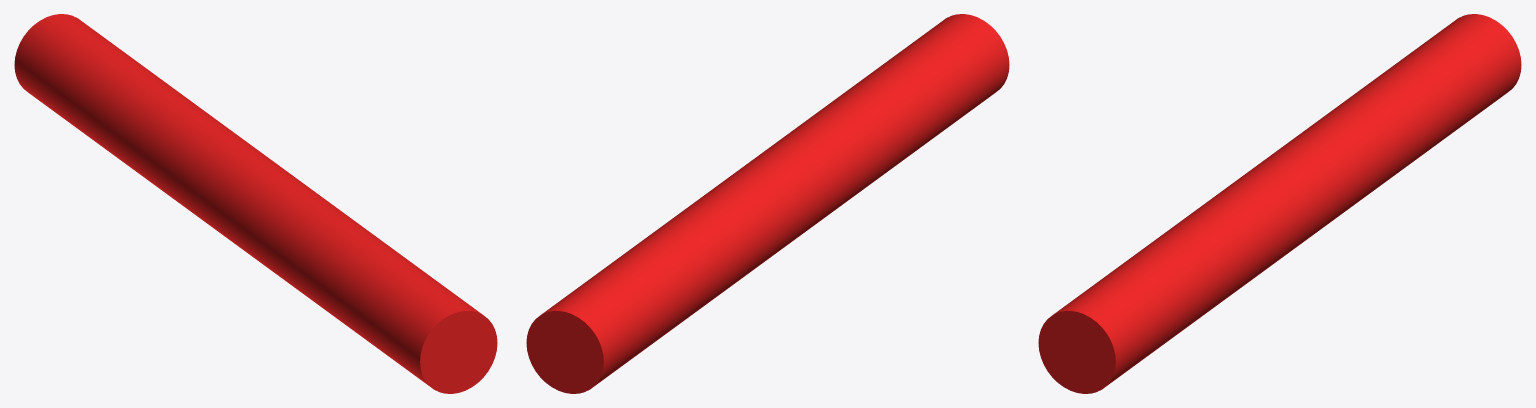
The model's file is Bullet rood-1.fbx.
The picture shows the model from 3 angles, left to right: view 1: azimuth 30°, elevation 25°; view 2: azimuth 150°, elevation 25°; view 3: azimuth 330°, elevation 25°; orthographic projection.
Parts seen in each view (by area): view 1: Cylinder; view 2: Cylinder; view 3: Cylinder.
Part boxes in pixels (x1=…): Cylinder: x1=14, y1=14, x2=497, y2=393; Cylinder: x1=526, y1=14, x2=1009, y2=393; Cylinder: x1=1038, y1=14, x2=1521, y2=393.
Size of the model in its own units: 14 by 14 by 127.
Materials: 1 (1 with a texture image).
